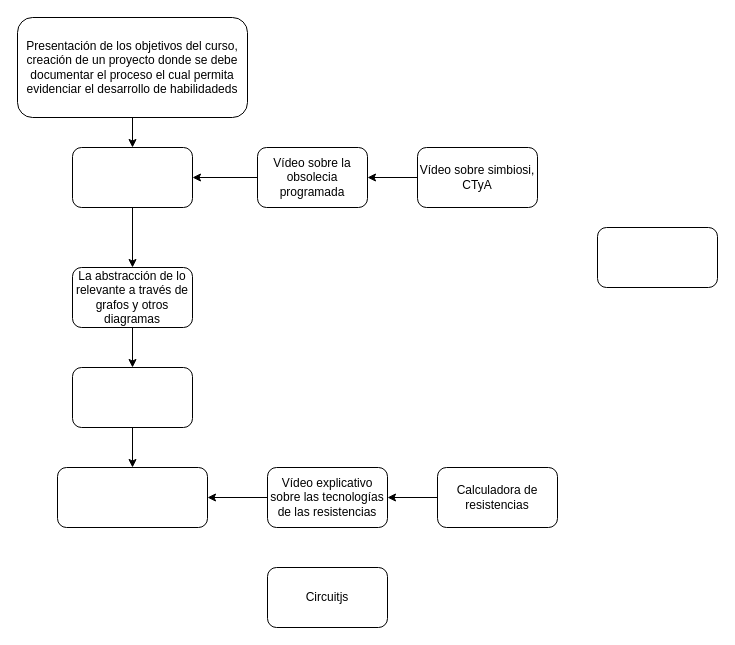
Some shapes in this 735 by 645 pixel diagram are drawn without their labels. The shapes that lost their labels are listed below. From the top down, each one's centre as x and y in pixels, then its label:
(132,177): Presentación de ODS y paradigmas
(132,397): Presentación de ideas de proyectos por parte de los estudiantes
(132,497): Taller, mi primer circuito y uso de multimetro como instrumento de medición
